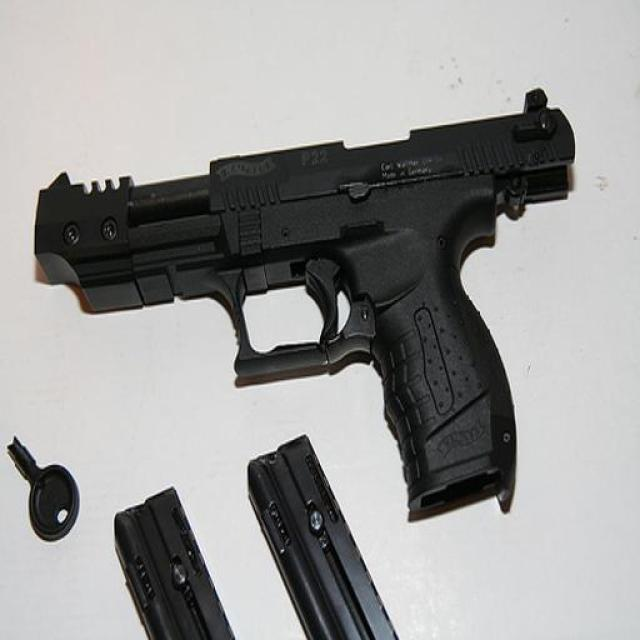pistol: (32, 86, 575, 526)
